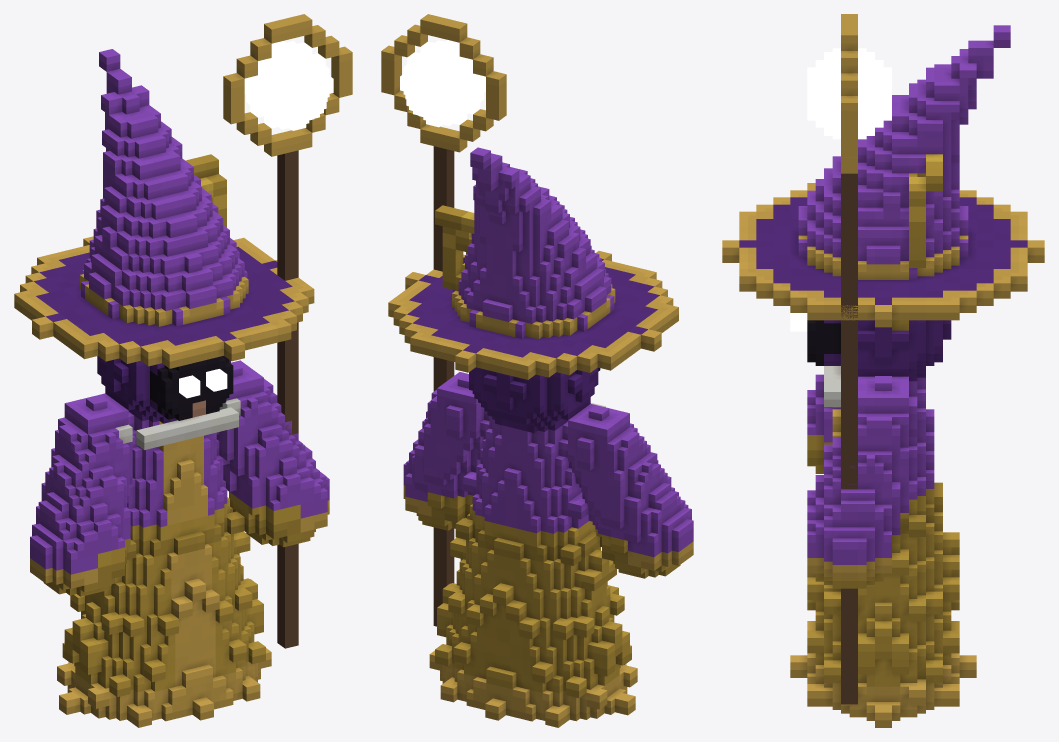
File: u_oracle__trappeur.glb
3 views of the same model, side by side, from view 1: azimuth 30°, elevation 25°; view 2: azimuth 150°, elevation 25°; view 3: azimuth 270°, elevation 25° (orthographic). The views are drawn at different scales.
Visible parts, largest first — view 1: oracle_body, oracle_weapon, oracle_weaponglow, oracle_glow; view 2: oracle_body, oracle_weapon, oracle_weaponglow; view 3: oracle_body, oracle_weapon, oracle_weaponglow.
Boxes of the visible parts, x1,y1,x2,y2 form: oracle_body: (14, 49, 329, 727); oracle_weapon: (223, 14, 352, 648); oracle_weaponglow: (244, 41, 333, 130); oracle_glow: (179, 369, 227, 398); oracle_body: (388, 147, 693, 727); oracle_weapon: (381, 14, 506, 626); oracle_weaponglow: (400, 40, 485, 127); oracle_body: (722, 25, 1044, 727); oracle_weapon: (841, 14, 857, 704); oracle_weaponglow: (807, 48, 891, 139).
Bounding box in the file's own units: 1.15 × 2.3 × 0.95.
